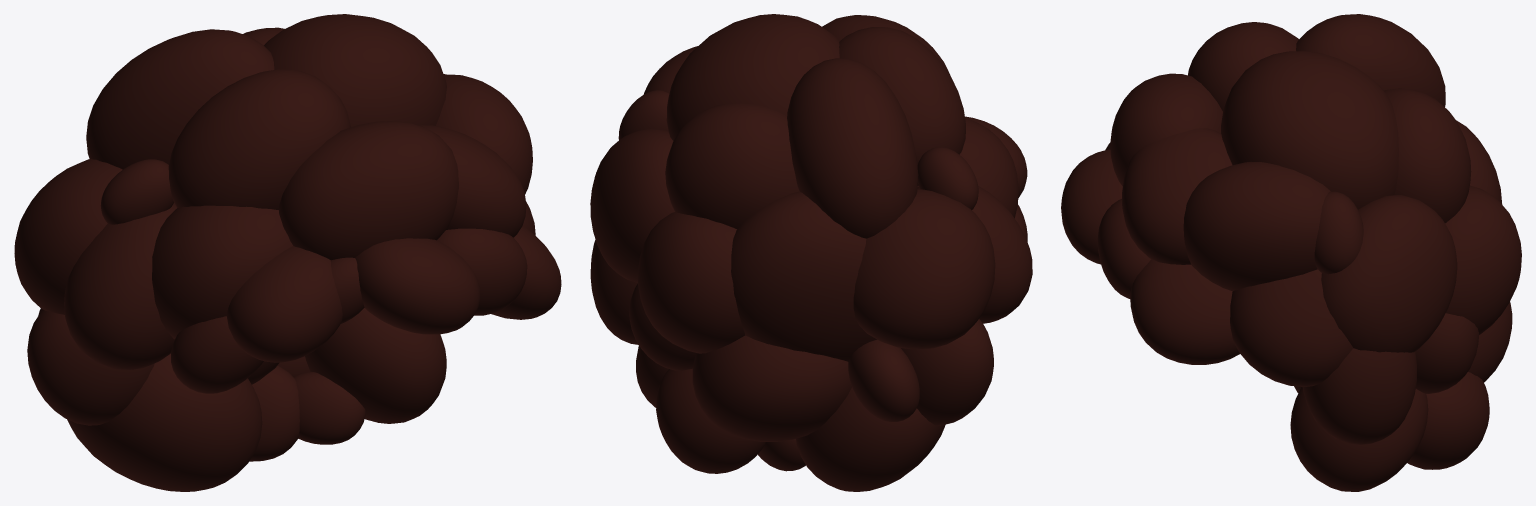
File: afro.fbx
The picture shows the model from 3 angles, left to right: view 1: azimuth 30°, elevation 25°; view 2: azimuth 150°, elevation 25°; view 3: azimuth 270°, elevation 25°; orthographic projection. The views are drawn at different scales.
Parts seen in each view (by area): view 1: Cube.035, Cube.014, Cube.030, Cube.025, Cube.012, Cube.039, Cube.013, Cube.017, Cube.038, Cube.010, Cube.023, Cube.029 (+9 smaller); view 2: Cube.025, Cube.027, Cube.023, Cube.016, Cube.028, Cube.012, Cube.026, Cube.021, Cube.030, Cube.014, Cube.029, Cube.031 (+12 smaller); view 3: Cube.012, Cube.021, Cube.015, Cube.019, Cube.034, Cube.037, Cube.020, Cube.026, Cube.016, Cube.025, Cube.017, Cube.035 (+8 smaller).
Boxes of the visible parts, x1,y1,x2,y2 form: Cube.035: (278, 121, 458, 260); Cube.014: (168, 69, 350, 209); Cube.030: (67, 353, 262, 491); Cube.025: (86, 29, 274, 169); Cube.012: (264, 14, 446, 127); Cube.039: (152, 205, 292, 339); Cube.013: (64, 203, 176, 370); Cube.017: (305, 308, 446, 423); Cube.038: (226, 246, 342, 362); Cube.010: (355, 238, 479, 334); Cube.023: (14, 159, 174, 314); Cube.029: (27, 309, 154, 425); Cube.025: (787, 58, 918, 238); Cube.027: (731, 191, 876, 361); Cube.023: (853, 189, 995, 349); Cube.016: (665, 103, 799, 229); Cube.028: (692, 335, 851, 441); Cube.012: (666, 14, 839, 140); Cube.026: (638, 212, 745, 353); Cube.021: (590, 129, 674, 282); Cube.030: (796, 387, 945, 491); Cube.014: (839, 27, 965, 185); Cube.029: (901, 319, 993, 425); Cube.031: (656, 368, 765, 473); Cube.012: (1221, 51, 1398, 209); Cube.021: (1321, 195, 1457, 352); Cube.015: (1183, 162, 1330, 291); Cube.019: (1230, 269, 1352, 386); Cube.034: (1122, 128, 1232, 264); Cube.037: (1130, 259, 1239, 364); Cube.020: (1302, 348, 1416, 444); Cube.026: (1445, 185, 1521, 334); Cube.016: (1383, 88, 1471, 223); Cube.025: (1296, 14, 1445, 106); Cube.017: (1290, 387, 1428, 491); Cube.035: (1110, 73, 1222, 186).
Size of the model in its own units: 180 by 173 by 174.
